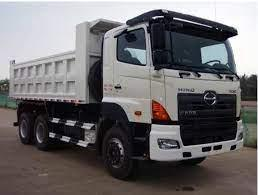Truck: (4, 5, 247, 180)
